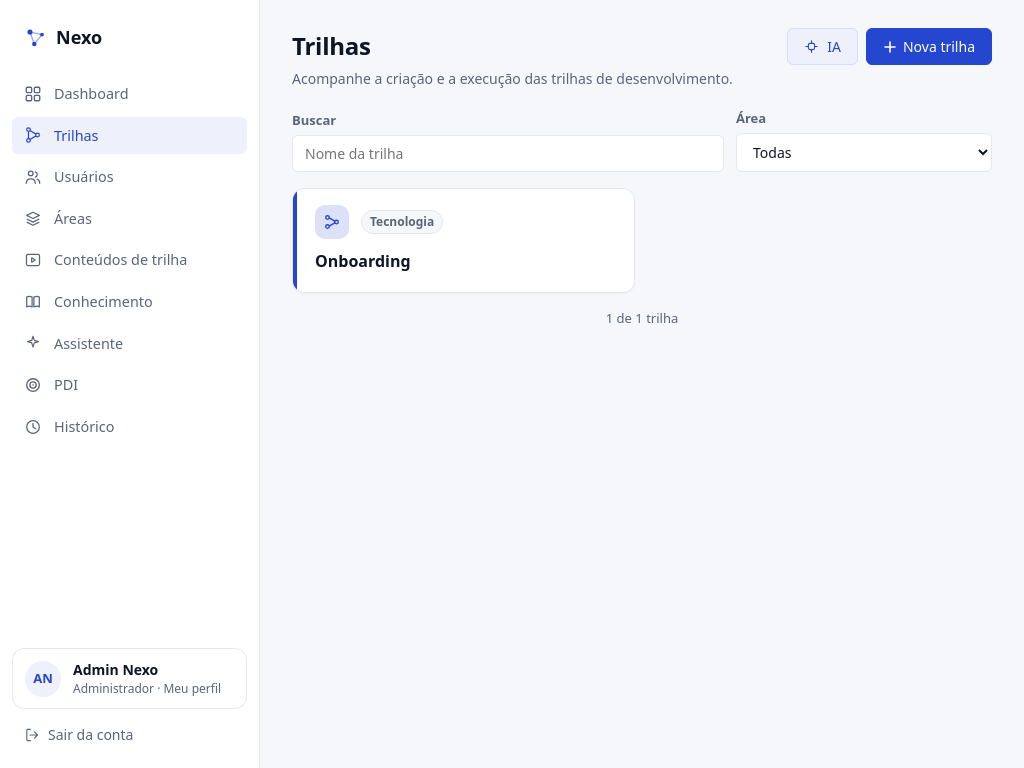
TrilhasPage › mantém o formulário aberto e mostra o erro da API
Click the button "Nova trilha".
click(929, 46)  # box top-left (866, 28), bottom-right (992, 65)
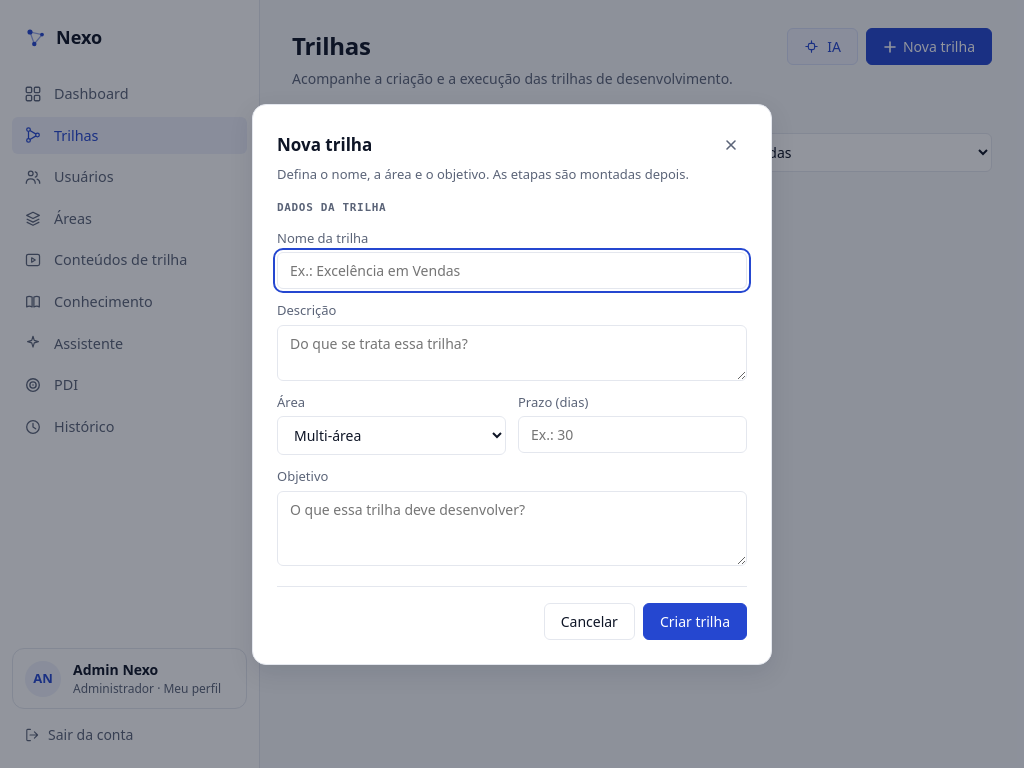
Type "Onboarding" into the field labelled "Nome da trilha".
click(512, 270); type("Onboarding")  # box top-left (277, 252), bottom-right (747, 289)
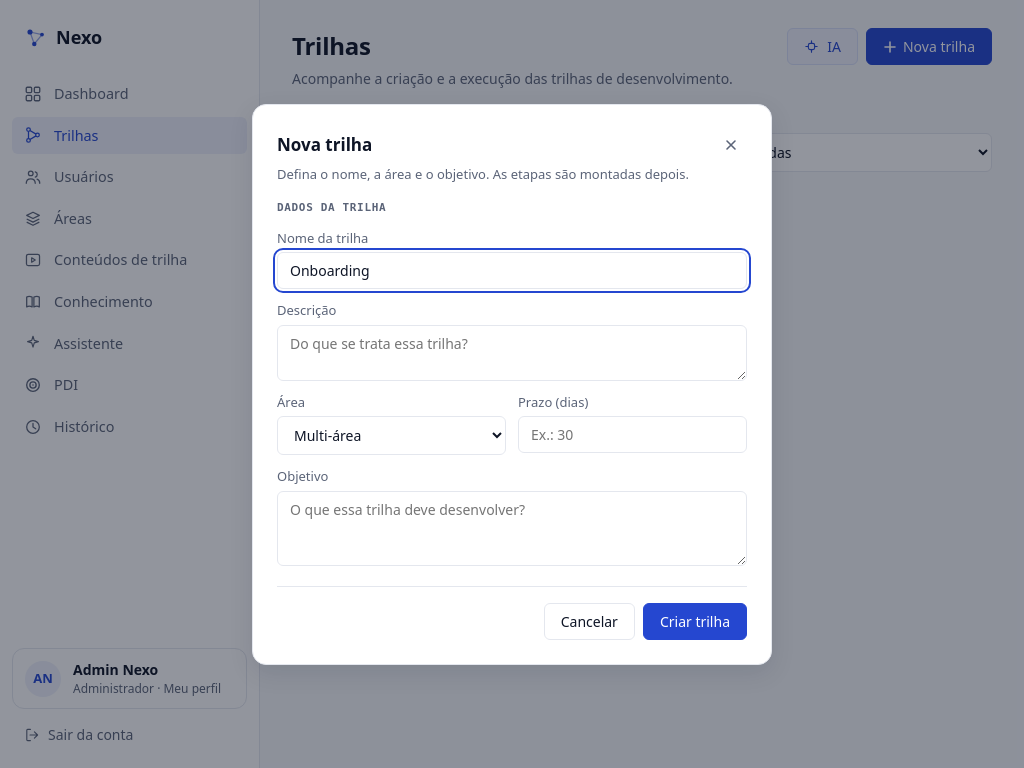
Click the button "Criar trilha".
click(695, 621)  # box top-left (643, 602), bottom-right (747, 640)
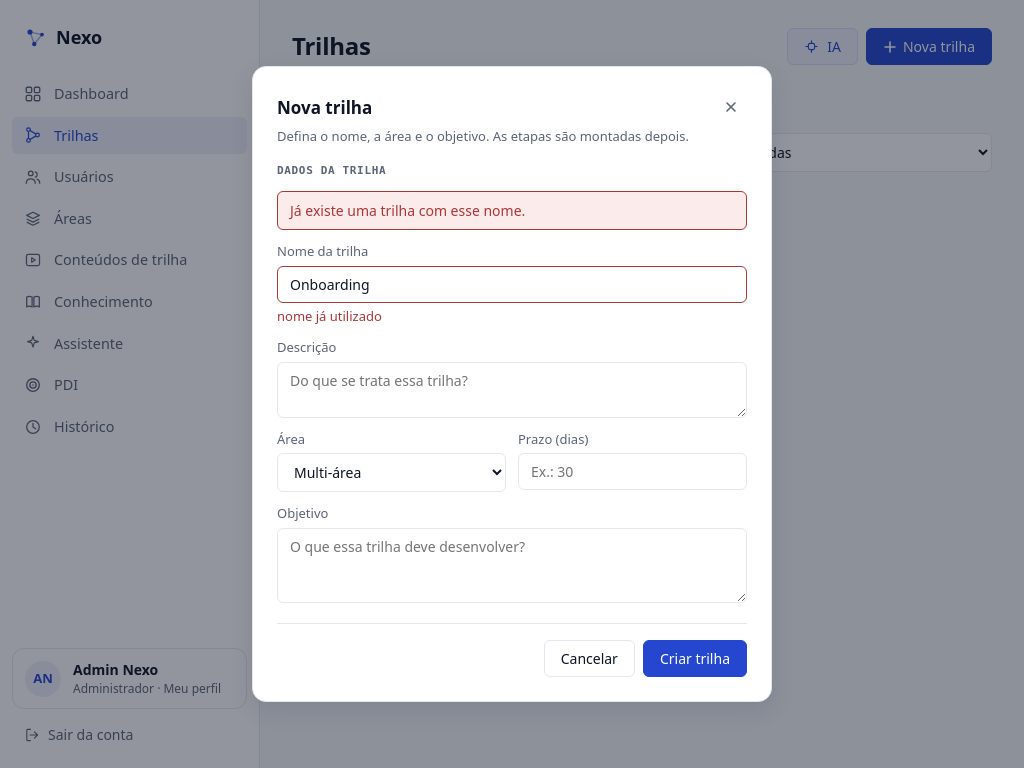
Result: the message reads "Já existe uma trilha com esse nome." at top-left (290, 201), bottom-right (525, 220)
Result: the text "nome já utilizado" is shown at top-left (277, 307), bottom-right (382, 325)
